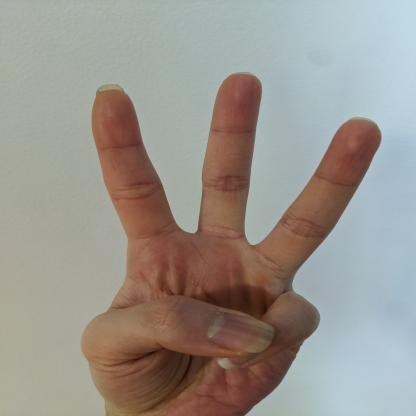W: (74, 68, 388, 415)
